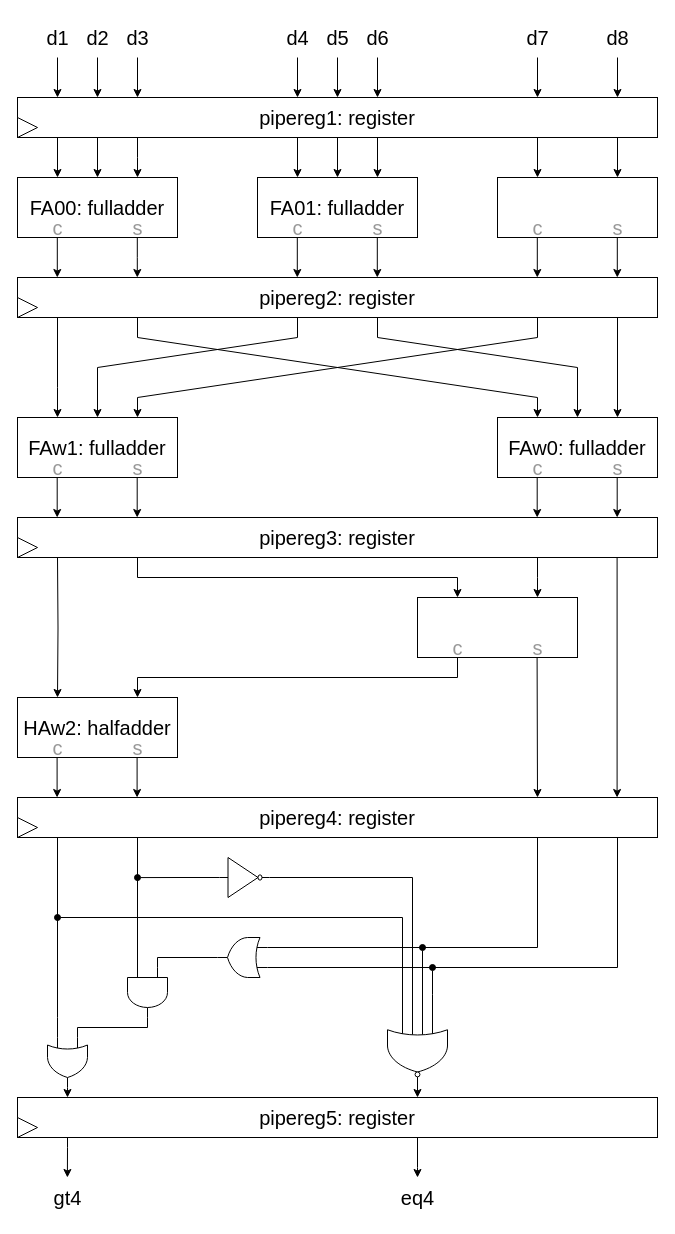
This 675x1234 diagram has some shape labels left out. The box of each missing label's shape, as (x1, y1, x2, y2) in pixels:
HA02: halfadder: (496, 176, 658, 238)
HAw1: halfadder: (416, 596, 578, 658)
